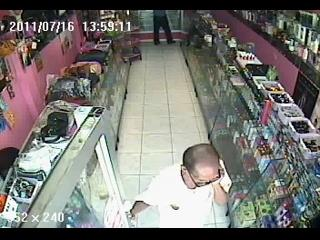Normal: (128, 143, 232, 229), (152, 10, 176, 46)
